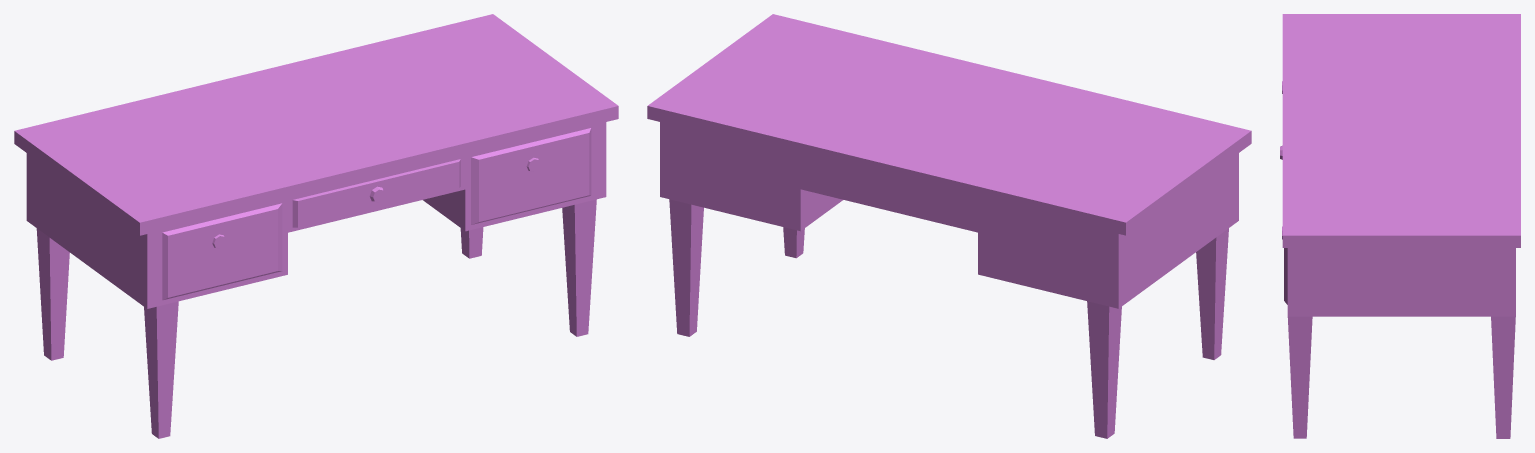
File: Escrivaninha2Low.fbx
3 views of the same model, side by side, from view 1: azimuth 30°, elevation 25°; view 2: azimuth 150°, elevation 25°; view 3: azimuth 270°, elevation 25° (orthographic). The views are drawn at different scales.
Parts seen in each view (by area): view 1: Cylinder.027; view 2: Cylinder.027; view 3: Cylinder.027.
Boxes of the visible parts, <box> form: Cylinder.027: <box>14,14,618,438</box>; Cylinder.027: <box>647,14,1251,438</box>; Cylinder.027: <box>1280,14,1520,438</box>.
Bounding box in the file's own units: 191 × 86.49 × 87.92.
